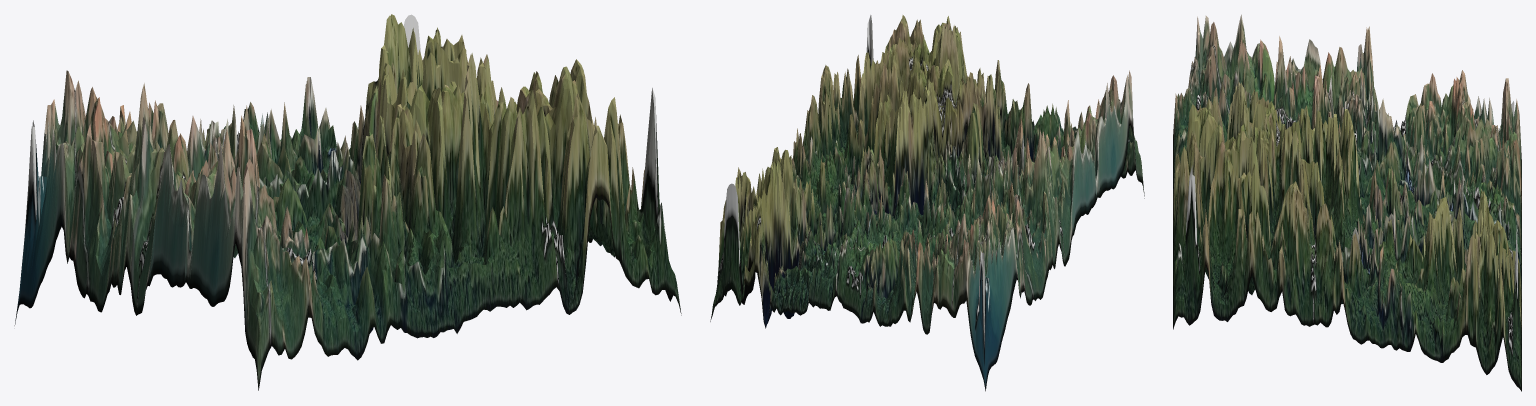
Rendered from terrain-lod3.glb.
3 views of the same model, side by side, from view 1: azimuth 30°, elevation 25°; view 2: azimuth 150°, elevation 25°; view 3: azimuth 270°, elevation 25° (orthographic). The views are drawn at different scales.
Visible parts, largest first — view 1: geometry_0; view 2: geometry_0; view 3: geometry_0.
Boxes of the visible parts, box(x1,y1,x2,y2) form: geometry_0: box(14, 14, 681, 390); geometry_0: box(710, 15, 1144, 391); geometry_0: box(1173, 14, 1521, 391).
Bounding box in the file's own units: 1534 × 1238 × 1534.
Materials: 1 (1 with a texture image).
